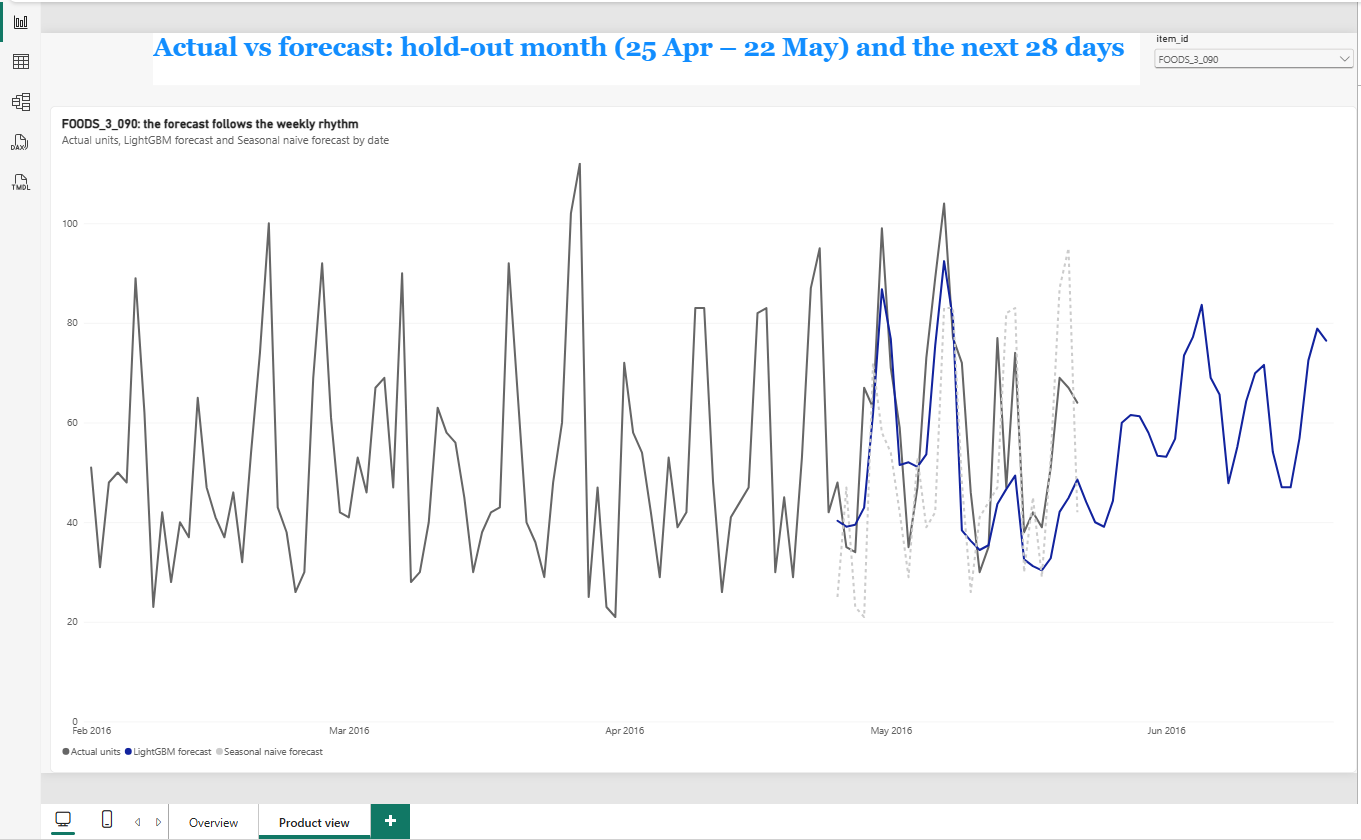

This screenshot's page, from the dashboard's own definition file:
{"tool":"powerbi","page":{"name":"Product view","canvas":[1920,1080],"ordinal":1},"visuals":[{"type":"textbox","box":[163.4,0,1440,75.9],"z":0},{"type":"slicer","fields":{"Values":["items.item_id"]},"box":[1619.5,0,300.5,75.9],"z":1},{"type":"lineChart","title":"FOODS_3_090: the forecast follows the weekly rhythm","fields":{"Category":["daily.date"],"Y":["item_errors.Actual units","item_errors.LightGBM forecast","item_errors.Seasonal naive forecast"]},"box":[13.1,106.5,1906.9,973.1],"z":2}]}

Visuals, with their boxes on the page's 1920x1080 design canvas (x1, y1, x2, y2). These are canvas units, not pixel positions in the 1361x840 screenshot, which may show the page scaled, cropped or inside an application window:
textbox: box=[163, 0, 1603, 76]
slicer - items.item_id: box=[1620, 0, 1920, 76]
"FOODS_3_090: the forecast follows the weekly rhythm" lineChart: box=[13, 106, 1920, 1080]
